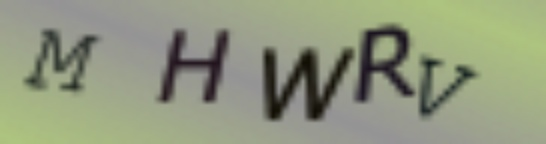H: (155, 25, 237, 108)
M: (22, 24, 101, 95)
R: (354, 22, 417, 107)
V: (416, 53, 479, 121)
W: (259, 45, 356, 124)
